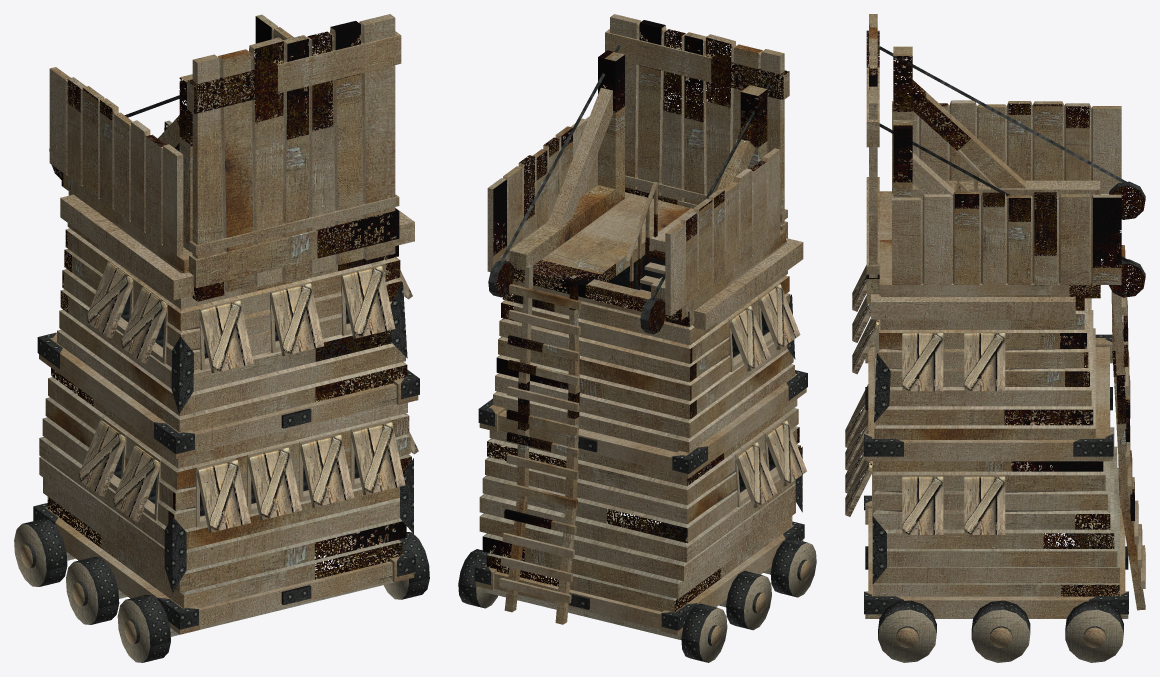
File: hele_siege_tower.dae
3 views of the same model, side by side, from view 1: azimuth 30°, elevation 25°; view 2: azimuth 150°, elevation 25°; view 3: azimuth 270°, elevation 25° (orthographic). The views are drawn at different scales.
Visible parts, largest first — view 1: Tower; view 2: Tower; view 3: Tower.
Part boxes in pixels (box(x1,y1,x2,y2)): Tower: box(14, 14, 429, 662); Tower: box(458, 14, 816, 662); Tower: box(845, 14, 1145, 662).
Bounding box in the file's own units: 10.22 × 10.28 × 20.62.
